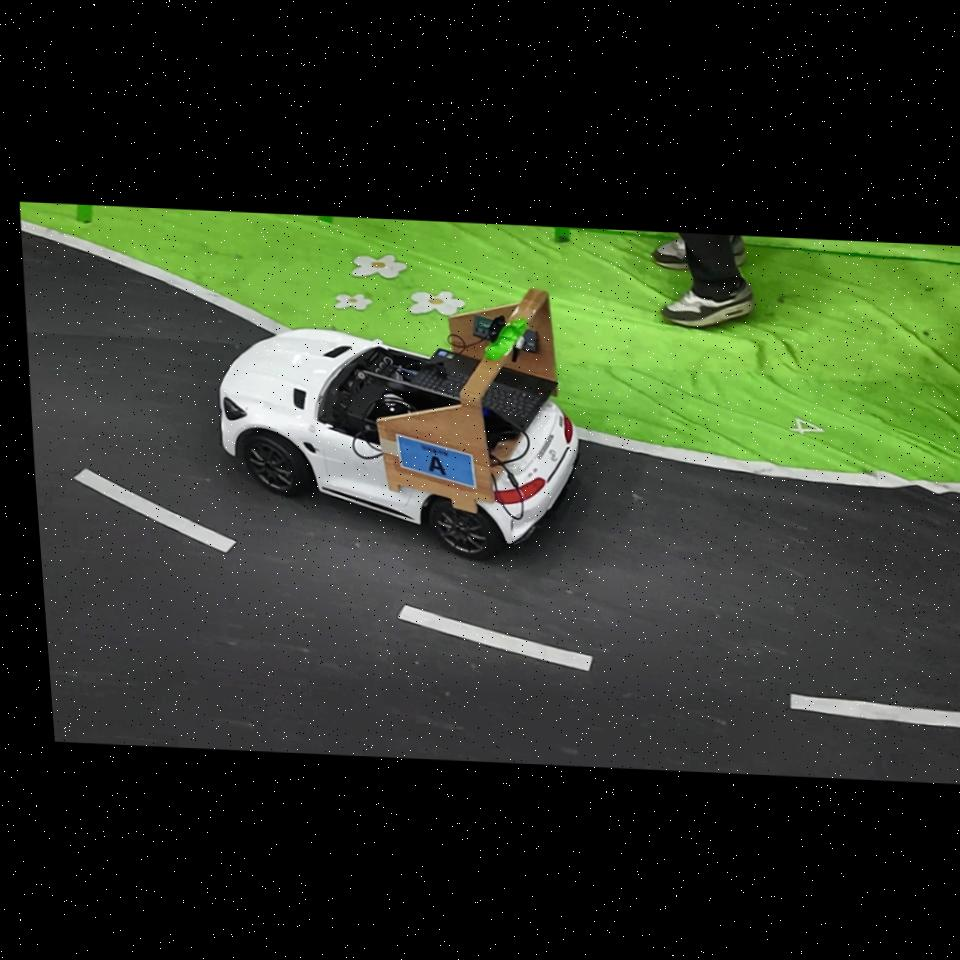broken_line: (73, 469, 236, 553), (397, 605, 593, 671), (789, 693, 960, 729)
